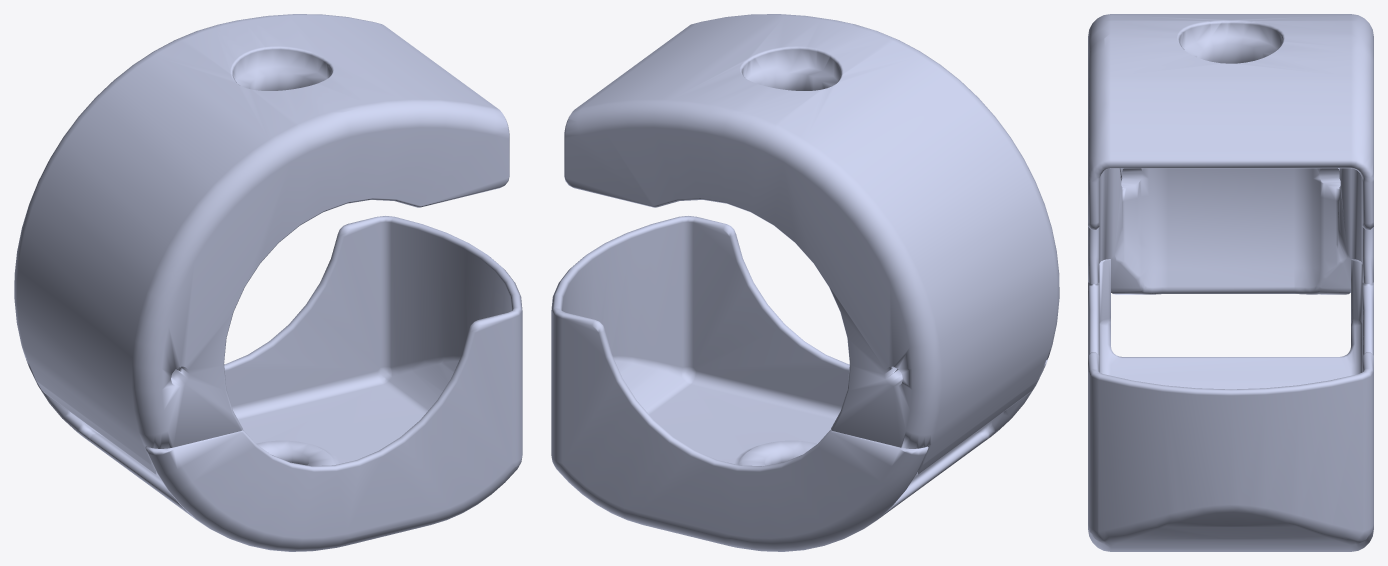
The model's file is right_thumb_CMC_VL_visual_cad1ee.glb.
3 views of the same model, side by side, from view 1: azimuth 30°, elevation 25°; view 2: azimuth 150°, elevation 25°; view 3: azimuth 270°, elevation 25° (orthographic). The views are drawn at different scales.
Visible parts, largest first — view 1: right_thumb_CMC_VL_visual_0; view 2: right_thumb_CMC_VL_visual_0; view 3: right_thumb_CMC_VL_visual_0.
Boxes of the visible parts, left/top/right/bottom form: right_thumb_CMC_VL_visual_0: left=14, top=14, right=522, bottom=551; right_thumb_CMC_VL_visual_0: left=551, top=14, right=1059, bottom=551; right_thumb_CMC_VL_visual_0: left=1088, top=14, right=1373, bottom=551.
Bounding box in the file's own units: 0.022 × 0.022 × 0.0125.
